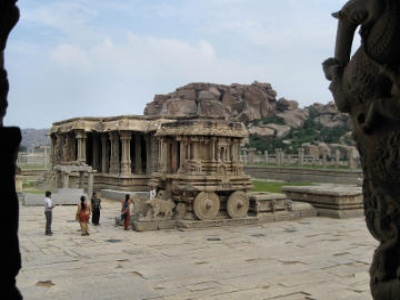mandapa: (49, 109, 158, 184)
